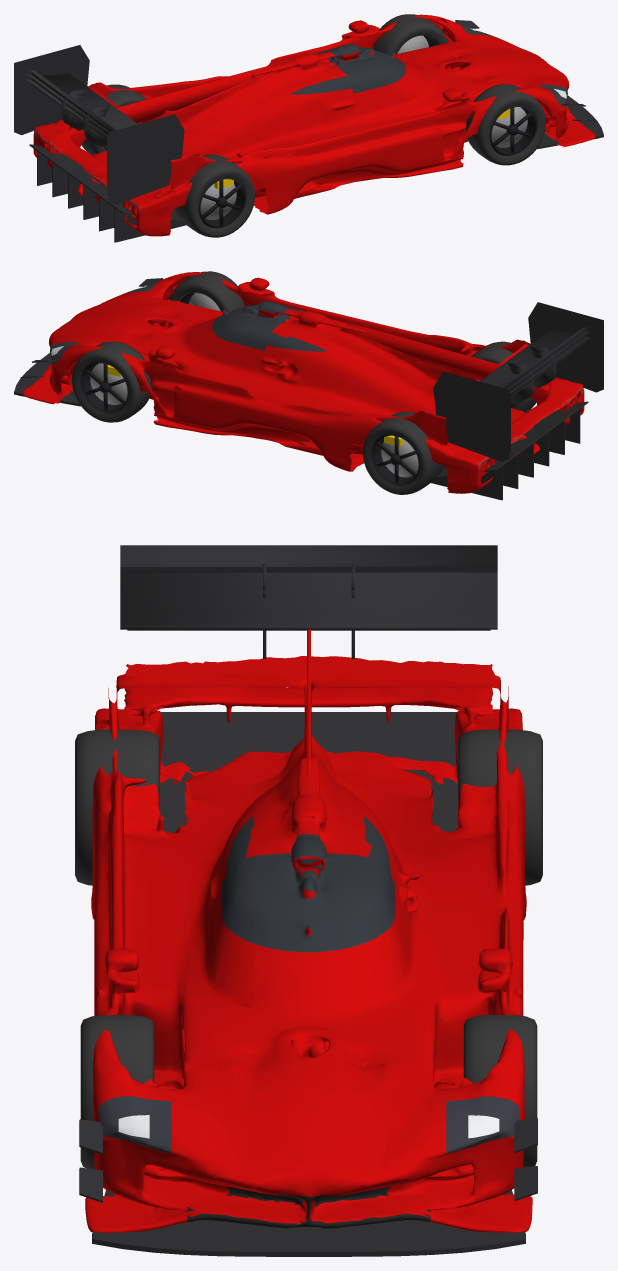
Rendered from ferrari_499p.glb.
3 views of the same model, one above another, from view 1: azimuth 30°, elevation 25°; view 2: azimuth 150°, elevation 25°; view 3: azimuth 270°, elevation 25° (orthographic). The views are drawn at different scales.
Visible parts, largest first — view 1: body, wing_rear_up3, wheel_fr_spin, bumper_front, wheel_rr_spin, diffuser, bumper_rear, wing_rear_up2, cabin, wing_rear, fin, wheel_fl_spin (+3 smaller); view 2: body, wing_rear_up3, bumper_front, wheel_fl_spin, wheel_rl_spin, diffuser, bumper_rear, wing_rear_up2, cabin, fin, wheel_fr_spin, wing_rear (+2 smaller); view 3: body, bumper_front, wing_rear_up3, cabin, diffuser, bumper_rear, splitter_up, splitter, wheel_rr_spin, wheel_rl_spin, wheel_fr_spin, wheel_fl_spin (+1 smaller).
Boxes of the visible parts, <box> form: body: <box>69,14,550,235</box>; wing_rear_up3: <box>14,45,184,204</box>; wheel_fr_spin: <box>465,84,545,165</box>; bumper_front: <box>444,19,595,147</box>; wheel_rr_spin: <box>174,154,254,237</box>; diffuser: <box>29,144,186,242</box>; bumper_rear: <box>33,120,173,236</box>; wing_rear_up2: <box>15,53,109,195</box>; cabin: <box>290,43,406,94</box>; wing_rear: <box>15,60,108,190</box>; fin: <box>88,65,277,140</box>; wheel_fl_spin: <box>373,14,448,55</box>; body: <box>67,272,547,493</box>; wing_rear_up3: <box>433,302,603,461</box>; bumper_front: <box>22,277,176,404</box>; wheel_fl_spin: <box>72,341,152,422</box>; wheel_rl_spin: <box>363,412,443,494</box>; diffuser: <box>431,401,588,500</box>; bumper_rear: <box>441,377,584,493</box>; wing_rear_up2: <box>508,310,602,452</box>; cabin: <box>212,300,326,351</box>; fin: <box>339,323,529,397</box>; wheel_fr_spin: <box>169,271,244,312</box>; wing_rear: <box>509,324,602,447</box>; body: <box>91,660,526,1118</box>; bumper_front: <box>85,1074,532,1232</box>; wing_rear_up3: <box>120,545,497,658</box>; cabin: <box>221,816,395,951</box>; diffuser: <box>160,712,457,833</box>; bumper_rear: <box>95,656,522,778</box>; splitter_up: <box>92,1190,525,1256</box>; splitter: <box>92,1190,525,1247</box>; wheel_rr_spin: <box>75,729,159,885</box>; wheel_rl_spin: <box>458,729,542,885</box>; wheel_fr_spin: <box>80,1015,154,1169</box>; wheel_fl_spin: <box>463,1015,537,1167</box>.
Bounding box in the file's own units: 5.24 × 1.26 × 2.11.
